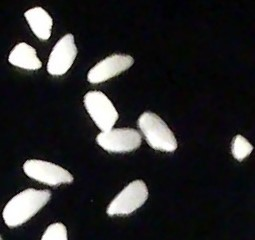broken_grain: (81, 89, 120, 132), (6, 39, 44, 77), (96, 128, 142, 155), (23, 3, 54, 42), (229, 131, 254, 163)
complete_grain: (2, 187, 53, 230), (104, 179, 151, 221), (21, 155, 75, 190), (138, 108, 179, 154), (87, 51, 135, 89), (46, 32, 80, 79)
